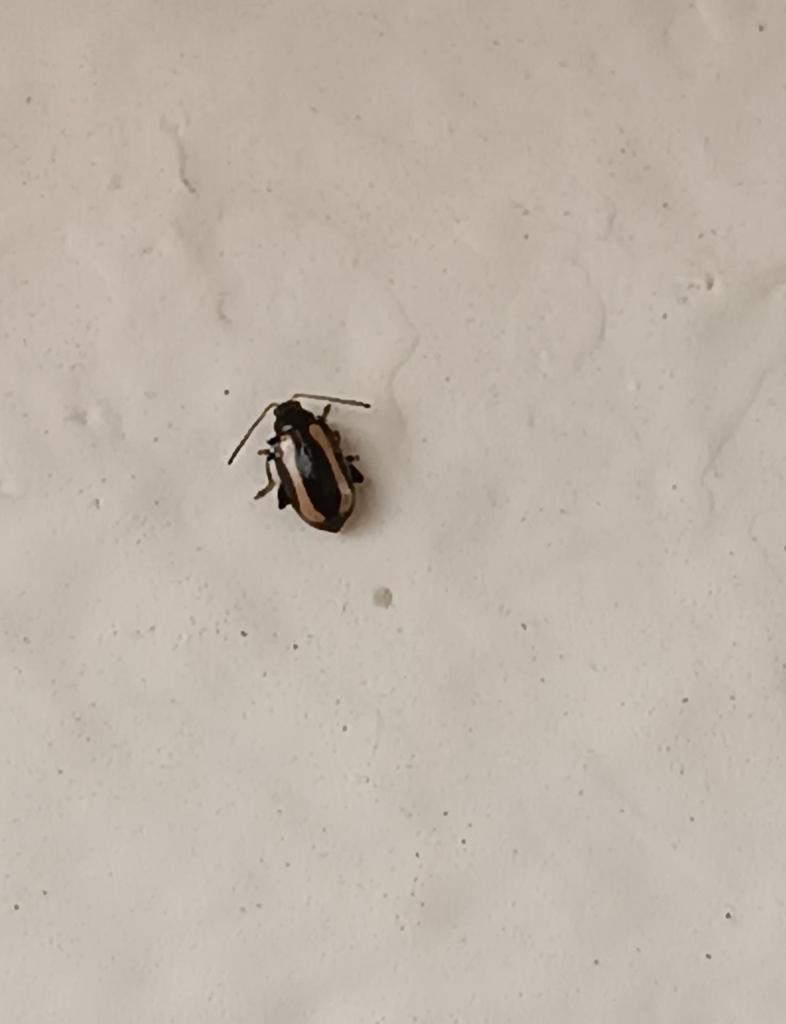flea_beetle: (210, 366, 411, 579)
